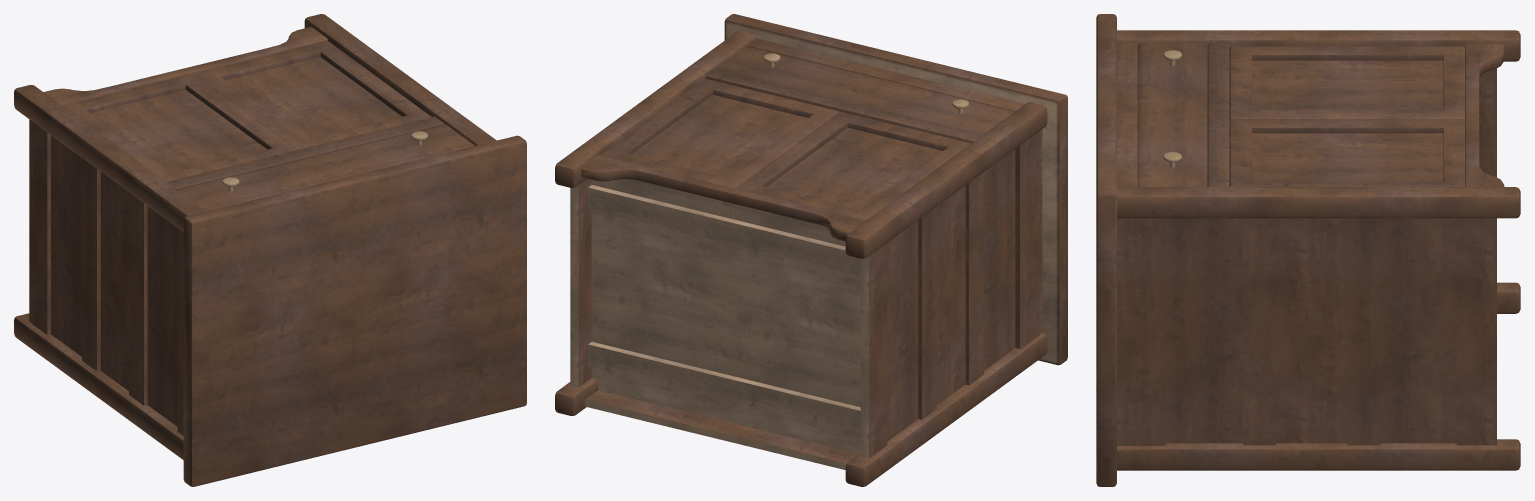
File: Old_Simple_Drawer.obj
3 views of the same model, side by side, from view 1: azimuth 30°, elevation 25°; view 2: azimuth 150°, elevation 25°; view 3: azimuth 270°, elevation 25° (orthographic). The views are drawn at different scales.
Visible parts, largest first — view 1: Table_Frame, Drawer_Right, Drawer_Left; view 2: Table_Frame, Drawer_Right, Drawer_Left; view 3: Table_Frame, Drawer_Left, Drawer_Right.
Boxes of the visible parts, x1,y1,x2,y2 form: Table_Frame: (14,14,526,486); Drawer_Right: (193,36,431,149); Drawer_Left: (62,74,296,191); Table_Frame: (555,14,1067,486); Drawer_Right: (581,53,839,188); Drawer_Left: (736,99,971,241); Table_Frame: (1096,14,1520,486); Drawer_Left: (1163,45,1504,120); Drawer_Right: (1163,119,1504,186).
Size of the model in its own units: 4.63 by 3.5 by 4.57.
Materials: 1 (1 with a texture image).
